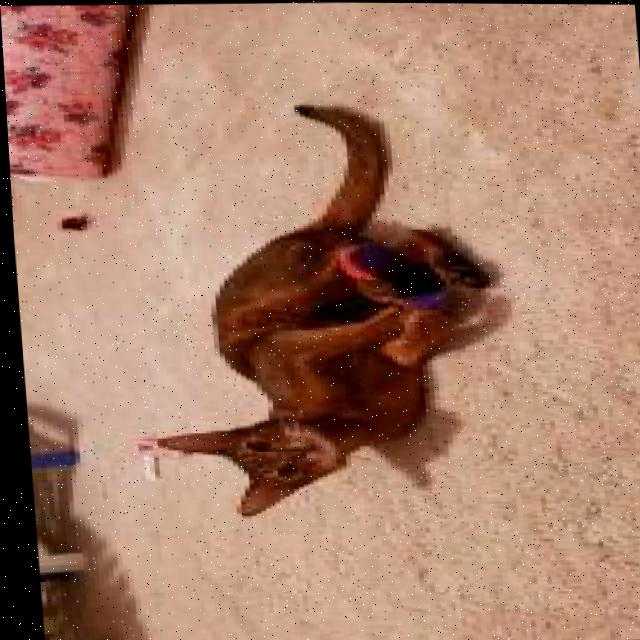Abyssinian: (117, 96, 508, 525)
